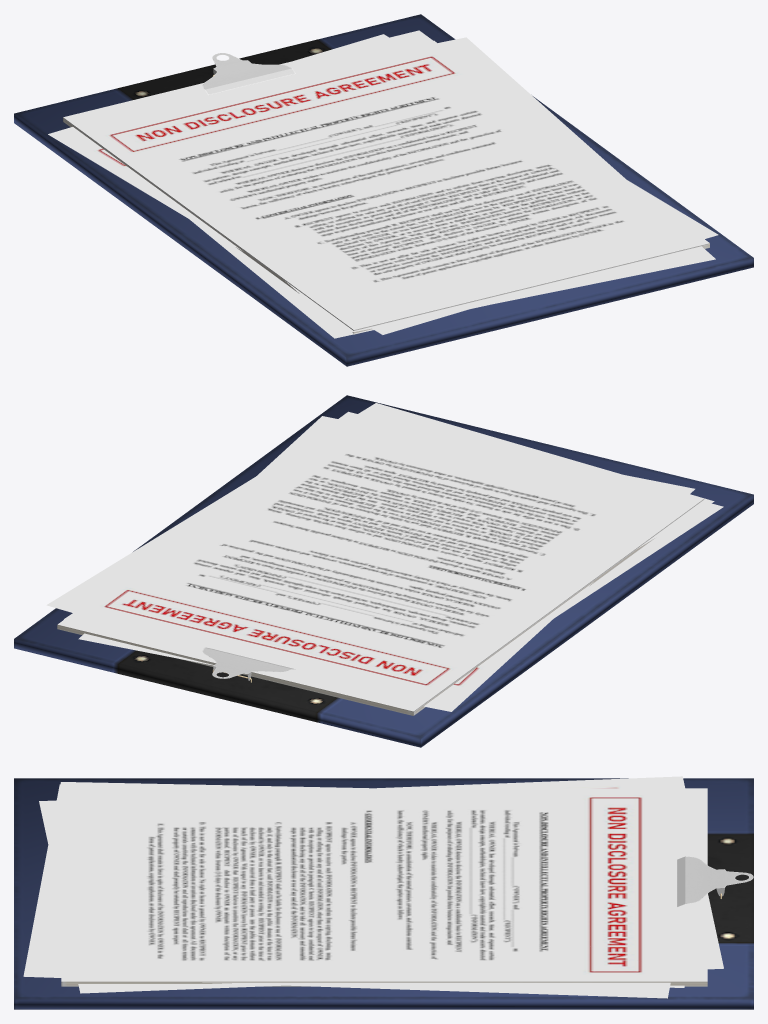
File: SM_Clue_Assignment.fbx
3 views of the same model, one above another, from view 1: azimuth 30°, elevation 25°; view 2: azimuth 150°, elevation 25°; view 3: azimuth 270°, elevation 25° (orthographic). The views are drawn at different scales.
Visible parts, largest first — view 1: SM_Clue_Assignment; view 2: SM_Clue_Assignment; view 3: SM_Clue_Assignment.
Boxes of the visible parts, x1,y1,x2,y2 form: SM_Clue_Assignment: [14, 14, 753, 366]; SM_Clue_Assignment: [14, 395, 753, 747]; SM_Clue_Assignment: [14, 776, 753, 1009].
Bounding box in the file's own units: 31.47 × 1.45 × 43.86.
1 material, 1 textured.
